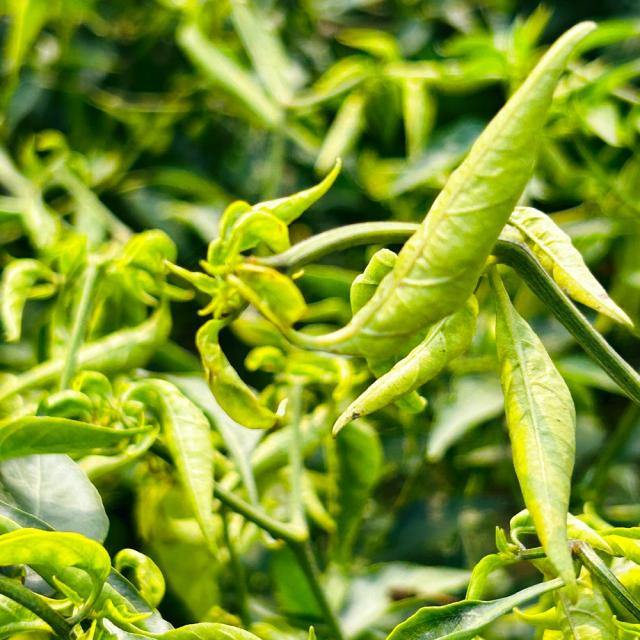Chilli_Leaf_Curl: (1, 3, 638, 638), (177, 13, 619, 437), (335, 17, 598, 358), (162, 155, 344, 430), (484, 259, 580, 604), (329, 292, 479, 438)
